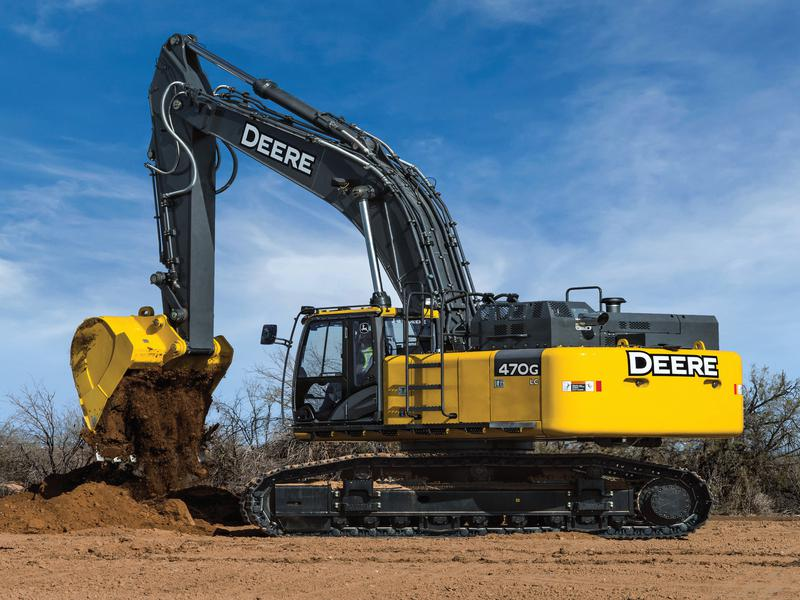shovel: (64, 27, 754, 551)
